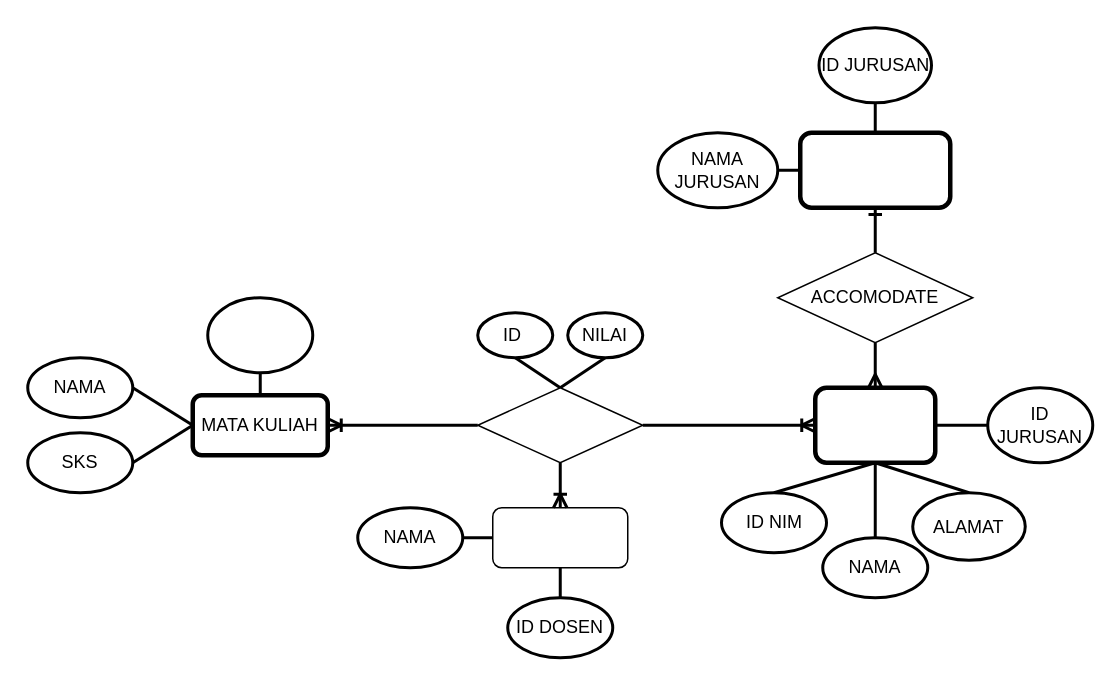
This 1119x684 diagram has some shape labels left out. Each missing label, with the box of its shape:
DOSEN: (491, 506, 628, 568)
ID MATA KULIAH: (206, 296, 314, 374)
JURUSAN: (797, 130, 952, 209)
MAHASISWA: (812, 385, 937, 464)
TAKE: (476, 386, 643, 463)
